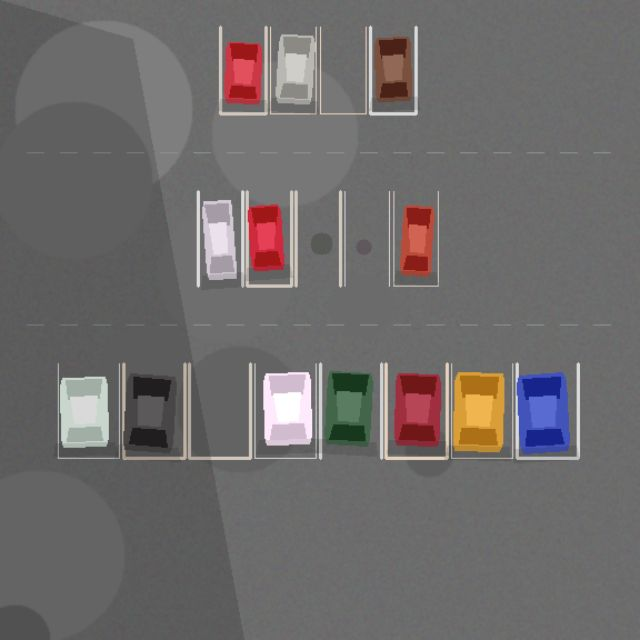space-empty: (189, 363, 250, 458), (344, 191, 389, 286), (296, 191, 340, 286), (320, 27, 366, 113)
space-occupied: (254, 363, 316, 458), (58, 363, 119, 458), (123, 363, 184, 458), (320, 363, 381, 458), (386, 363, 447, 458), (451, 363, 512, 458), (517, 363, 578, 458), (393, 191, 438, 286), (198, 191, 242, 286), (247, 191, 291, 286), (220, 27, 266, 113), (270, 27, 316, 113), (370, 27, 416, 113)
